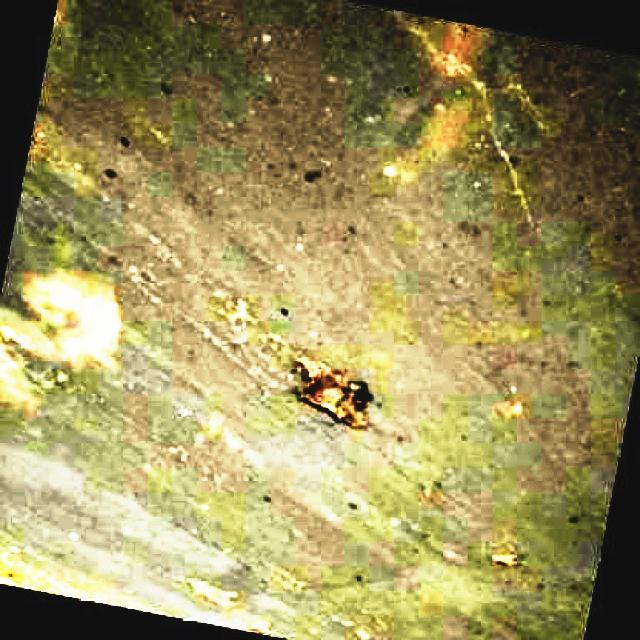pothole: (295, 349, 377, 434)
